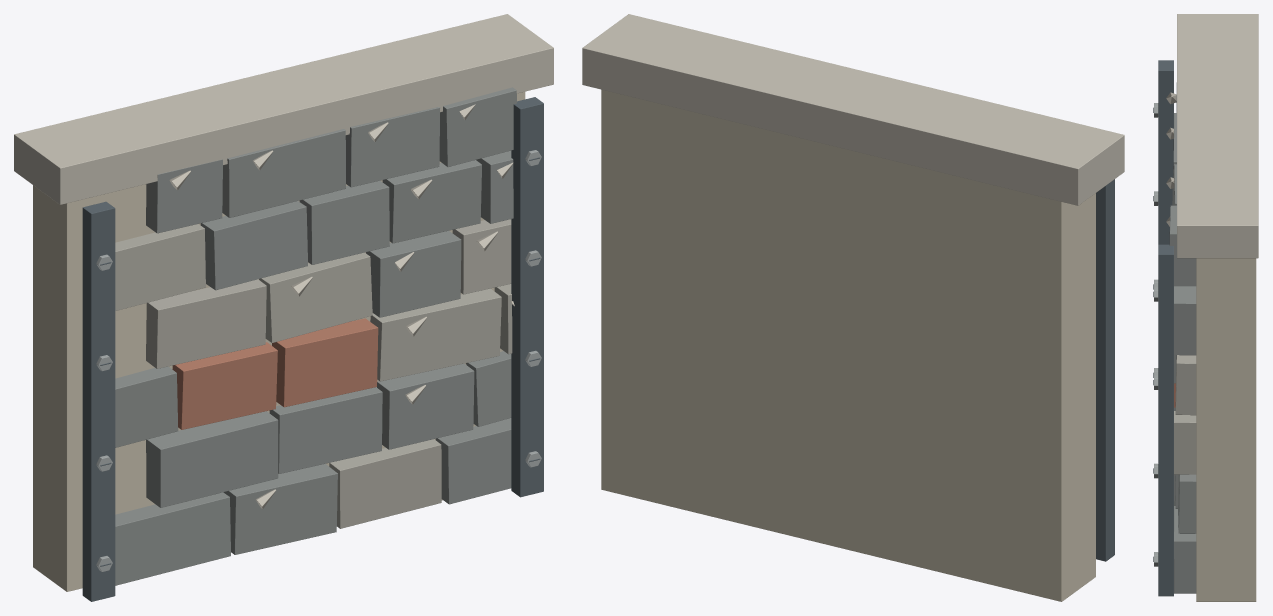
File: 05_Stone_and_Brick_Wall.fbx
The picture shows the model from 3 angles, left to right: view 1: azimuth 30°, elevation 25°; view 2: azimuth 150°, elevation 25°; view 3: azimuth 270°, elevation 25°; orthographic projection. The views are drawn at different scales.
Parts seen in each view (by area): view 1: 05_Stone_and_Brick_Wall; view 2: 05_Stone_and_Brick_Wall; view 3: 05_Stone_and_Brick_Wall.
Boxes of the visible parts, x1=… form: 05_Stone_and_Brick_Wall: x1=14, y1=14, x2=553, y2=601; 05_Stone_and_Brick_Wall: x1=582, y1=14, x2=1124, y2=601; 05_Stone_and_Brick_Wall: x1=1153, y1=14, x2=1258, y2=601.
Bounding box in the file's own units: 3.5 × 2.95 × 0.7338.
